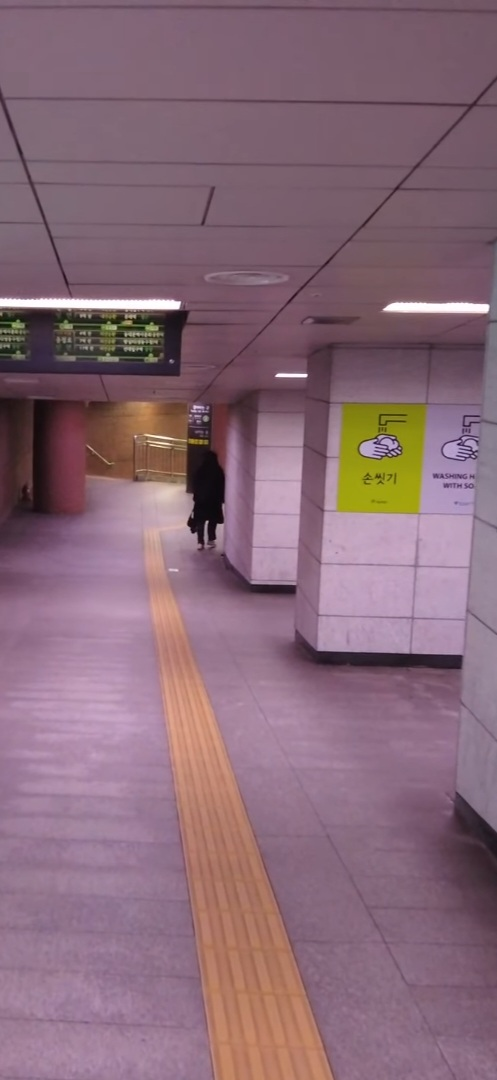guideBlock: (187, 852, 287, 931), (196, 986, 321, 1042), (197, 932, 305, 989), (215, 1029, 334, 1080), (196, 902, 291, 963), (172, 820, 267, 872), (177, 778, 248, 836), (166, 735, 243, 784), (154, 685, 231, 721), (168, 709, 233, 751)
